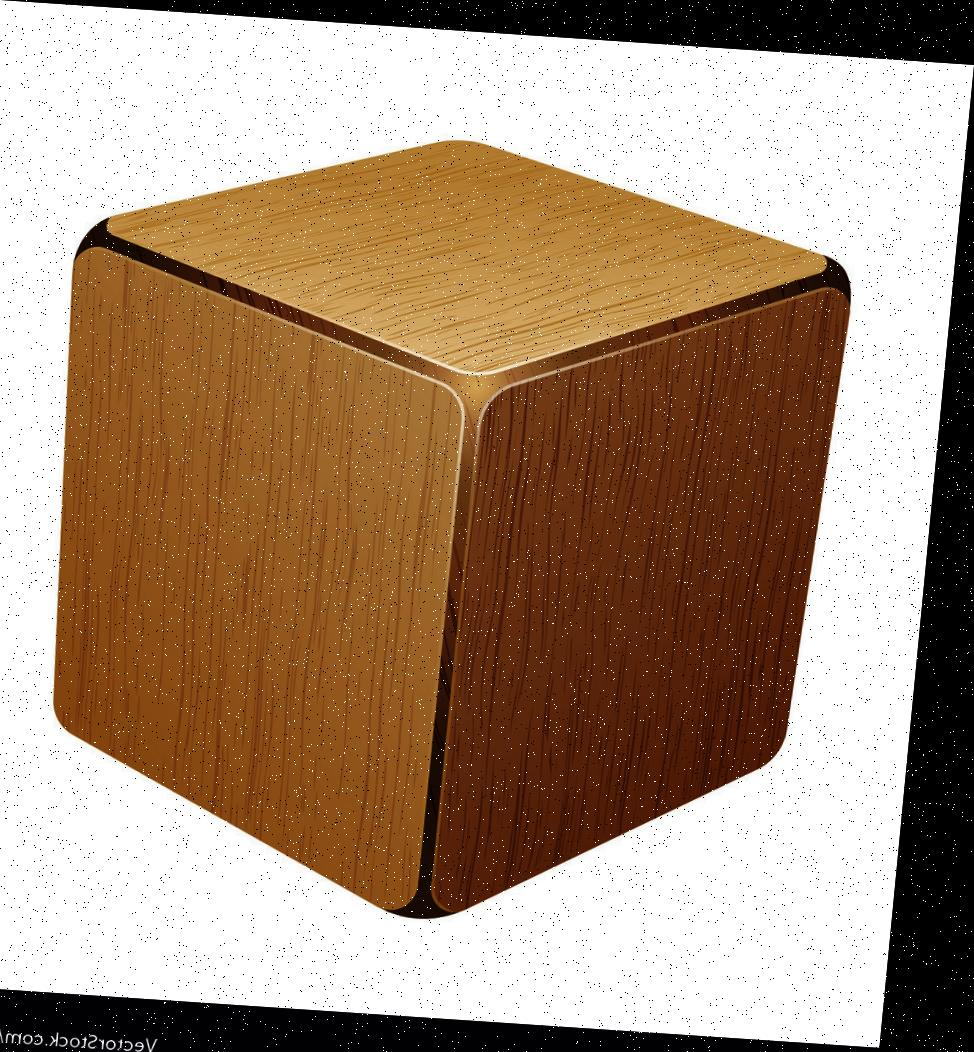cube: (35, 115, 864, 932)
